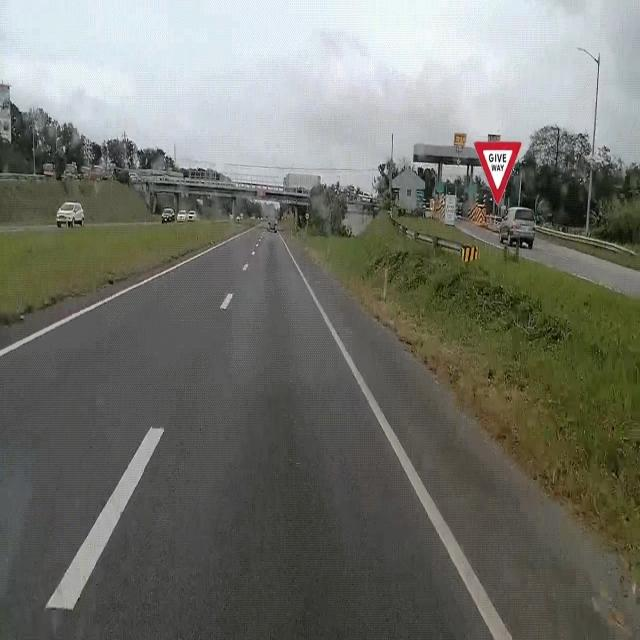Ceder-le-Passage: (472, 132, 528, 209)
